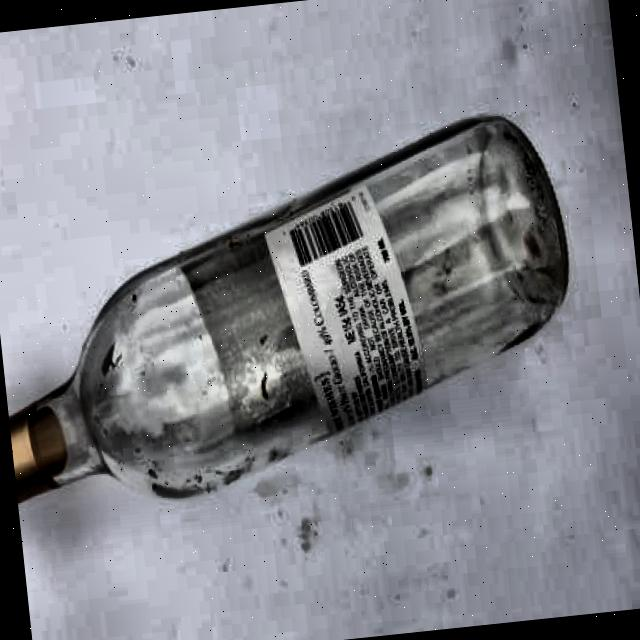glass: (0, 104, 592, 542)
